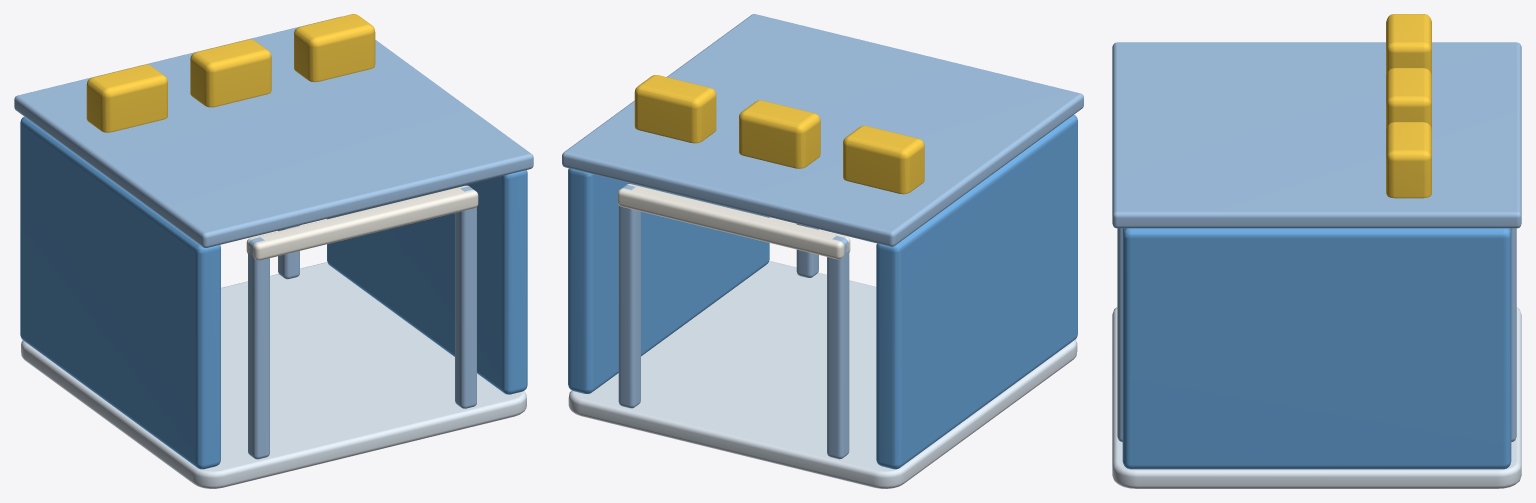
File: pcv_folder_portal_house.glb
The picture shows the model from 3 angles, left to right: view 1: azimuth 30°, elevation 25°; view 2: azimuth 150°, elevation 25°; view 3: azimuth 270°, elevation 25°; orthographic projection. The views are drawn at different scales.
Parts seen in each view (by area): view 1: pcv_folder_portal_house.roof_above_clearance, pcv_folder_portal_house.side_enclosure_wall, pcv_folder_portal_house.walk_surface_floor, pcv_folder_portal_house.side_enclosure_wall.001, pcv_folder_portal_house.clearance_lintel, pcv_folder_portal_house.folder_roof_tab.001, pcv_folder_portal_house.folder_roof_tab, pcv_folder_portal_house.folder_roof_tab.002, pcv_folder_portal_house.clear_door_jamb, pcv_folder_portal_house.clear_door_jamb.001, pcv_folder_portal_house.clear_door_jamb.003; view 2: pcv_folder_portal_house.roof_above_clearance, pcv_folder_portal_house.side_enclosure_wall, pcv_folder_portal_house.walk_surface_floor, pcv_folder_portal_house.side_enclosure_wall.001, pcv_folder_portal_house.clearance_lintel.001, pcv_folder_portal_house.clear_door_jamb.002, pcv_folder_portal_house.folder_roof_tab.002, pcv_folder_portal_house.clear_door_jamb.003, pcv_folder_portal_house.folder_roof_tab.001, pcv_folder_portal_house.folder_roof_tab, pcv_folder_portal_house.clear_door_jamb.001; view 3: pcv_folder_portal_house.side_enclosure_wall.001, pcv_folder_portal_house.roof_above_clearance, pcv_folder_portal_house.walk_surface_floor, pcv_folder_portal_house.folder_roof_tab.002, pcv_folder_portal_house.folder_roof_tab, pcv_folder_portal_house.folder_roof_tab.001, pcv_folder_portal_house.clear_door_jamb.001, pcv_folder_portal_house.clear_door_jamb.003.
Boxes of the visible parts, bbox=[...] form: pcv_folder_portal_house.roof_above_clearance: bbox=[14, 16, 533, 247]; pcv_folder_portal_house.side_enclosure_wall: bbox=[20, 116, 220, 469]; pcv_folder_portal_house.walk_surface_floor: bbox=[21, 262, 526, 488]; pcv_folder_portal_house.side_enclosure_wall.001: bbox=[327, 170, 527, 394]; pcv_folder_portal_house.clearance_lintel: bbox=[246, 185, 478, 260]; pcv_folder_portal_house.folder_roof_tab.001: bbox=[190, 39, 271, 107]; pcv_folder_portal_house.folder_roof_tab: bbox=[86, 64, 167, 132]; pcv_folder_portal_house.folder_roof_tab.002: bbox=[294, 14, 375, 82]; pcv_folder_portal_house.clear_door_jamb: bbox=[248, 237, 269, 459]; pcv_folder_portal_house.clear_door_jamb.001: bbox=[455, 186, 476, 408]; pcv_folder_portal_house.clear_door_jamb.003: bbox=[278, 225, 299, 279]; pcv_folder_portal_house.roof_above_clearance: bbox=[562, 14, 1083, 246]; pcv_folder_portal_house.side_enclosure_wall: bbox=[876, 115, 1077, 469]; pcv_folder_portal_house.walk_surface_floor: bbox=[568, 261, 1077, 488]; pcv_folder_portal_house.side_enclosure_wall.001: bbox=[568, 168, 769, 393]; pcv_folder_portal_house.clearance_lintel.001: bbox=[617, 184, 850, 259]; pcv_folder_portal_house.clear_door_jamb.002: bbox=[827, 236, 849, 459]; pcv_folder_portal_house.folder_roof_tab.002: bbox=[634, 75, 716, 143]; pcv_folder_portal_house.clear_door_jamb.003: bbox=[618, 185, 640, 408]; pcv_folder_portal_house.folder_roof_tab.001: bbox=[739, 100, 820, 168]; pcv_folder_portal_house.folder_roof_tab: bbox=[843, 125, 924, 194]; pcv_folder_portal_house.clear_door_jamb.001: bbox=[796, 224, 818, 277]; pcv_folder_portal_house.side_enclosure_wall.001: bbox=[1122, 228, 1511, 469]; pcv_folder_portal_house.roof_above_clearance: bbox=[1112, 42, 1521, 228]; pcv_folder_portal_house.walk_surface_floor: bbox=[1112, 307, 1521, 488]; pcv_folder_portal_house.folder_roof_tab.002: bbox=[1386, 122, 1431, 198]; pcv_folder_portal_house.folder_roof_tab: bbox=[1386, 14, 1431, 75]; pcv_folder_portal_house.folder_roof_tab.001: bbox=[1386, 68, 1431, 129]; pcv_folder_portal_house.clear_door_jamb.001: bbox=[1117, 228, 1122, 441]; pcv_folder_portal_house.clear_door_jamb.003: bbox=[1511, 228, 1516, 441].
Size of the model in its own units: 4 by 3.48 by 4.
